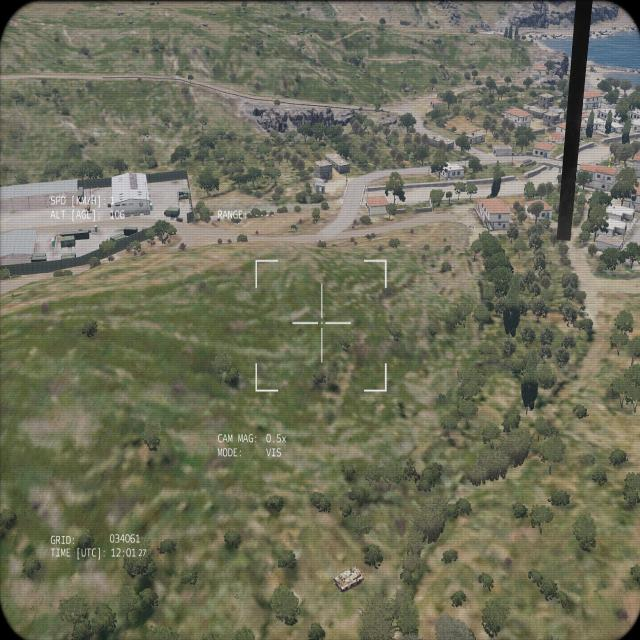tank: (326, 564, 364, 595)
